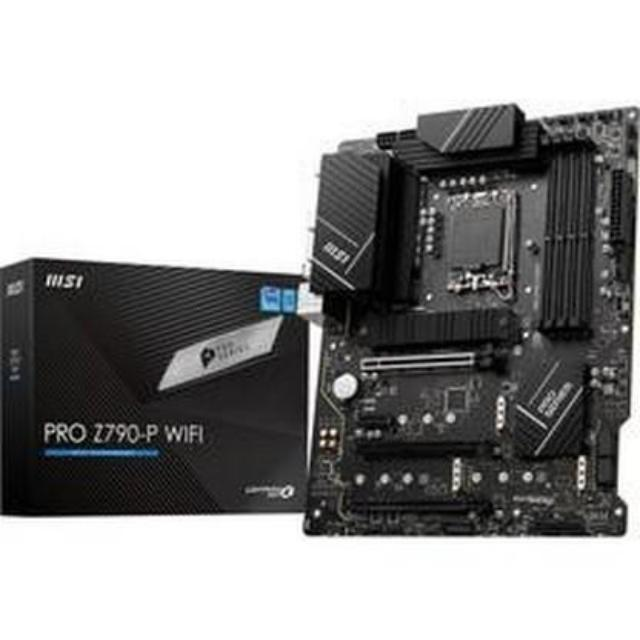Mainboard: (299, 94, 639, 540)
